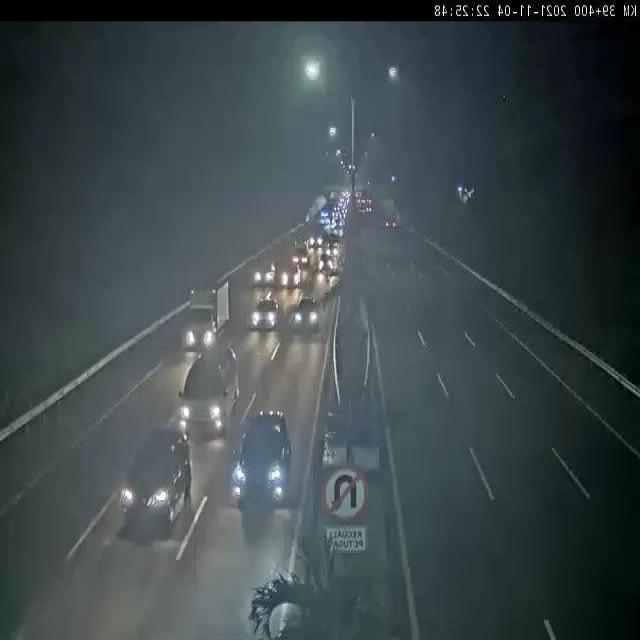Car: (119, 427, 190, 526), (232, 406, 289, 504), (177, 346, 237, 434), (249, 298, 280, 330), (290, 298, 319, 328), (252, 260, 276, 284), (280, 265, 302, 288)
Truck: (182, 276, 232, 351)
